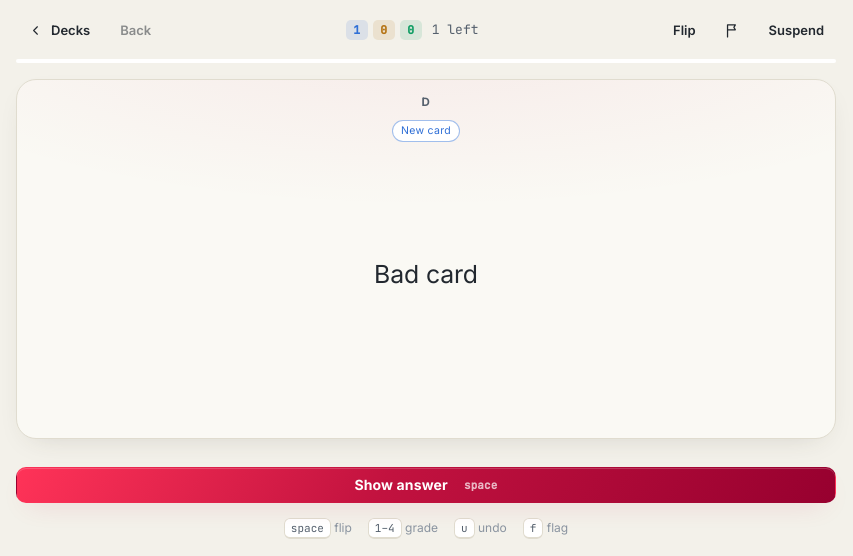
Scenario: suspending the card on screen › does not come back on a timer — a suspended card is not a waiting one
Click the button "Suspend" at (796, 30), box [757,16,836,45]
Wait 300000 ms
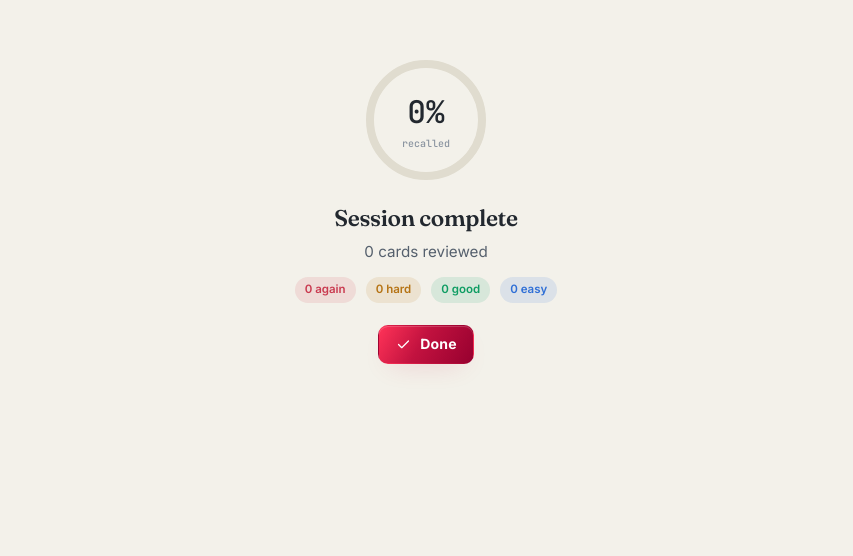
Expected: the text "Bad card" is gone
Expected: the heading "Session complete" is shown, [334,204,518,232]
